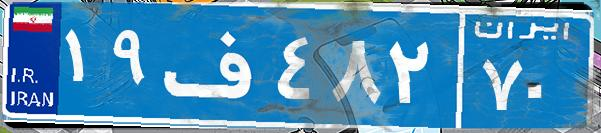0: (525, 38, 570, 115)
1: (57, 26, 110, 107)
2: (385, 28, 445, 110)
4: (273, 28, 330, 110)
7: (475, 38, 525, 113)
8: (330, 28, 385, 110)
9: (110, 28, 158, 105)
ف: (158, 15, 273, 115)
